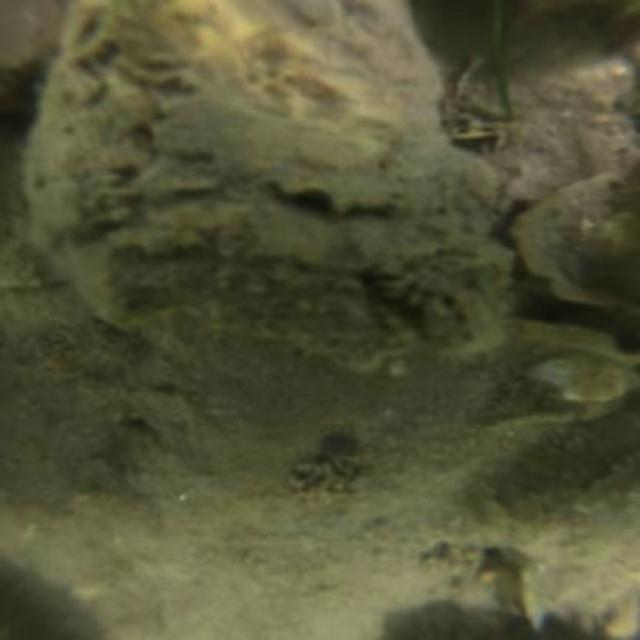Oyster-Closed: (21, 0, 530, 367), (510, 448, 640, 640), (519, 171, 640, 312)
